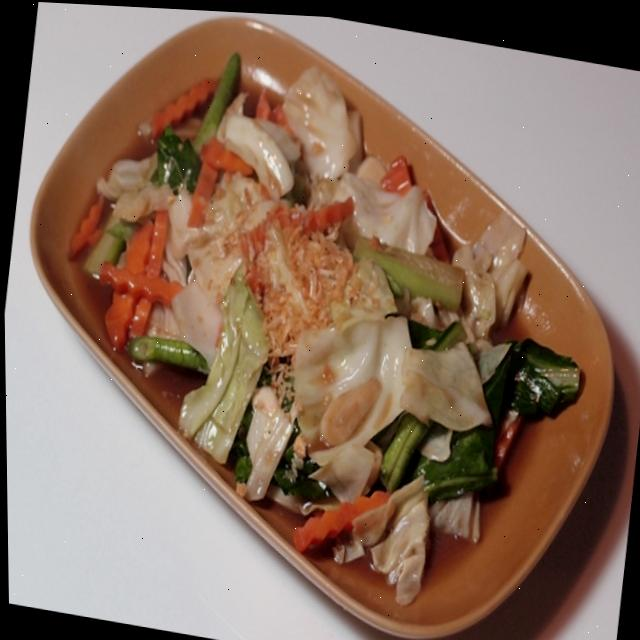蔬菜料理: (7, 0, 633, 640)
